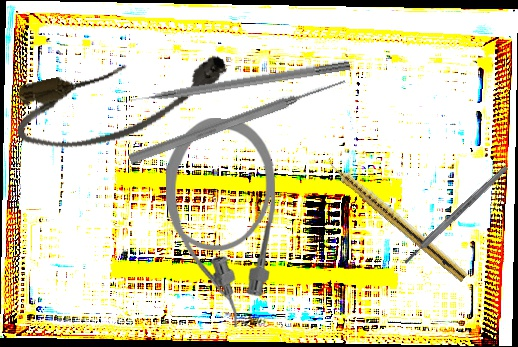Cannula: (7, 41, 239, 161), (163, 117, 277, 328)
Handpiece: (322, 154, 471, 283)
Pusher: (127, 74, 348, 167), (117, 57, 351, 108)
Scalpel Handle: (402, 164, 510, 266)
